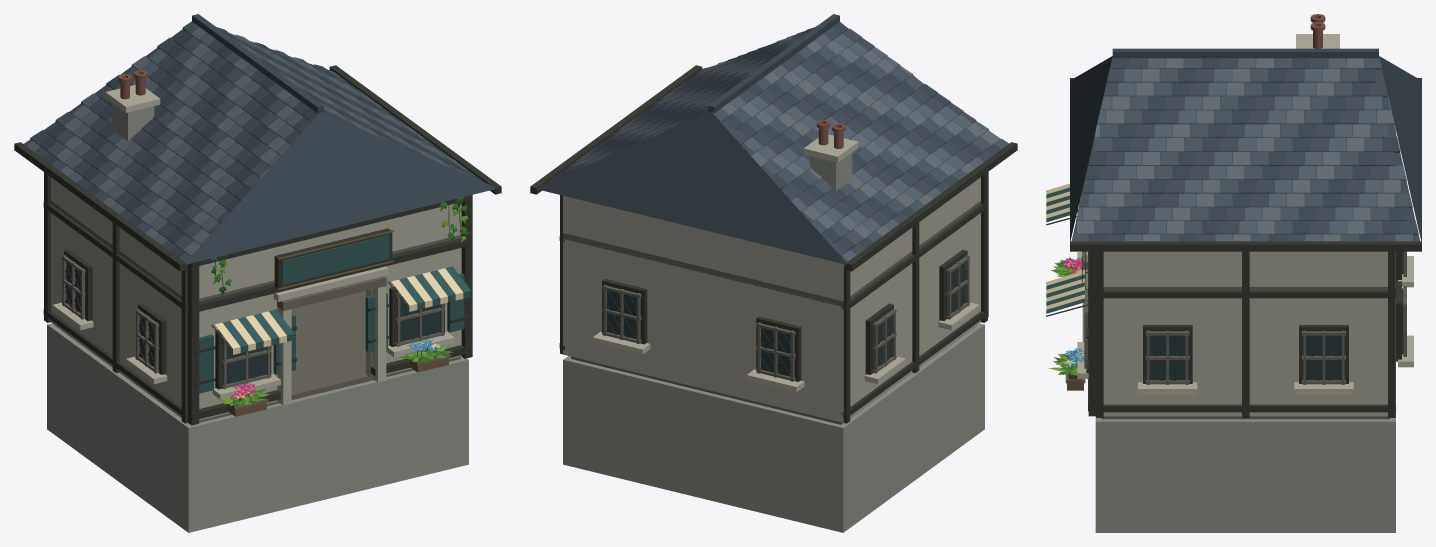
Rendered from village_generalstore.glb.
3 views of the same model, side by side, from view 1: azimuth 30°, elevation 25°; view 2: azimuth 150°, elevation 25°; view 3: azimuth 270°, elevation 25° (orthographic). The views are drawn at different scales.
Parts seen in each view (by area): view 1: village_generalstore; view 2: village_generalstore; view 3: village_generalstore.
Boxes of the visible parts, <box> form: village_generalstore: <box>14,14,501,532</box>; village_generalstore: <box>530,14,1017,532</box>; village_generalstore: <box>1046,14,1421,532</box>.
Size of the model in its own units: 9.18 by 10.54 by 8.75.
